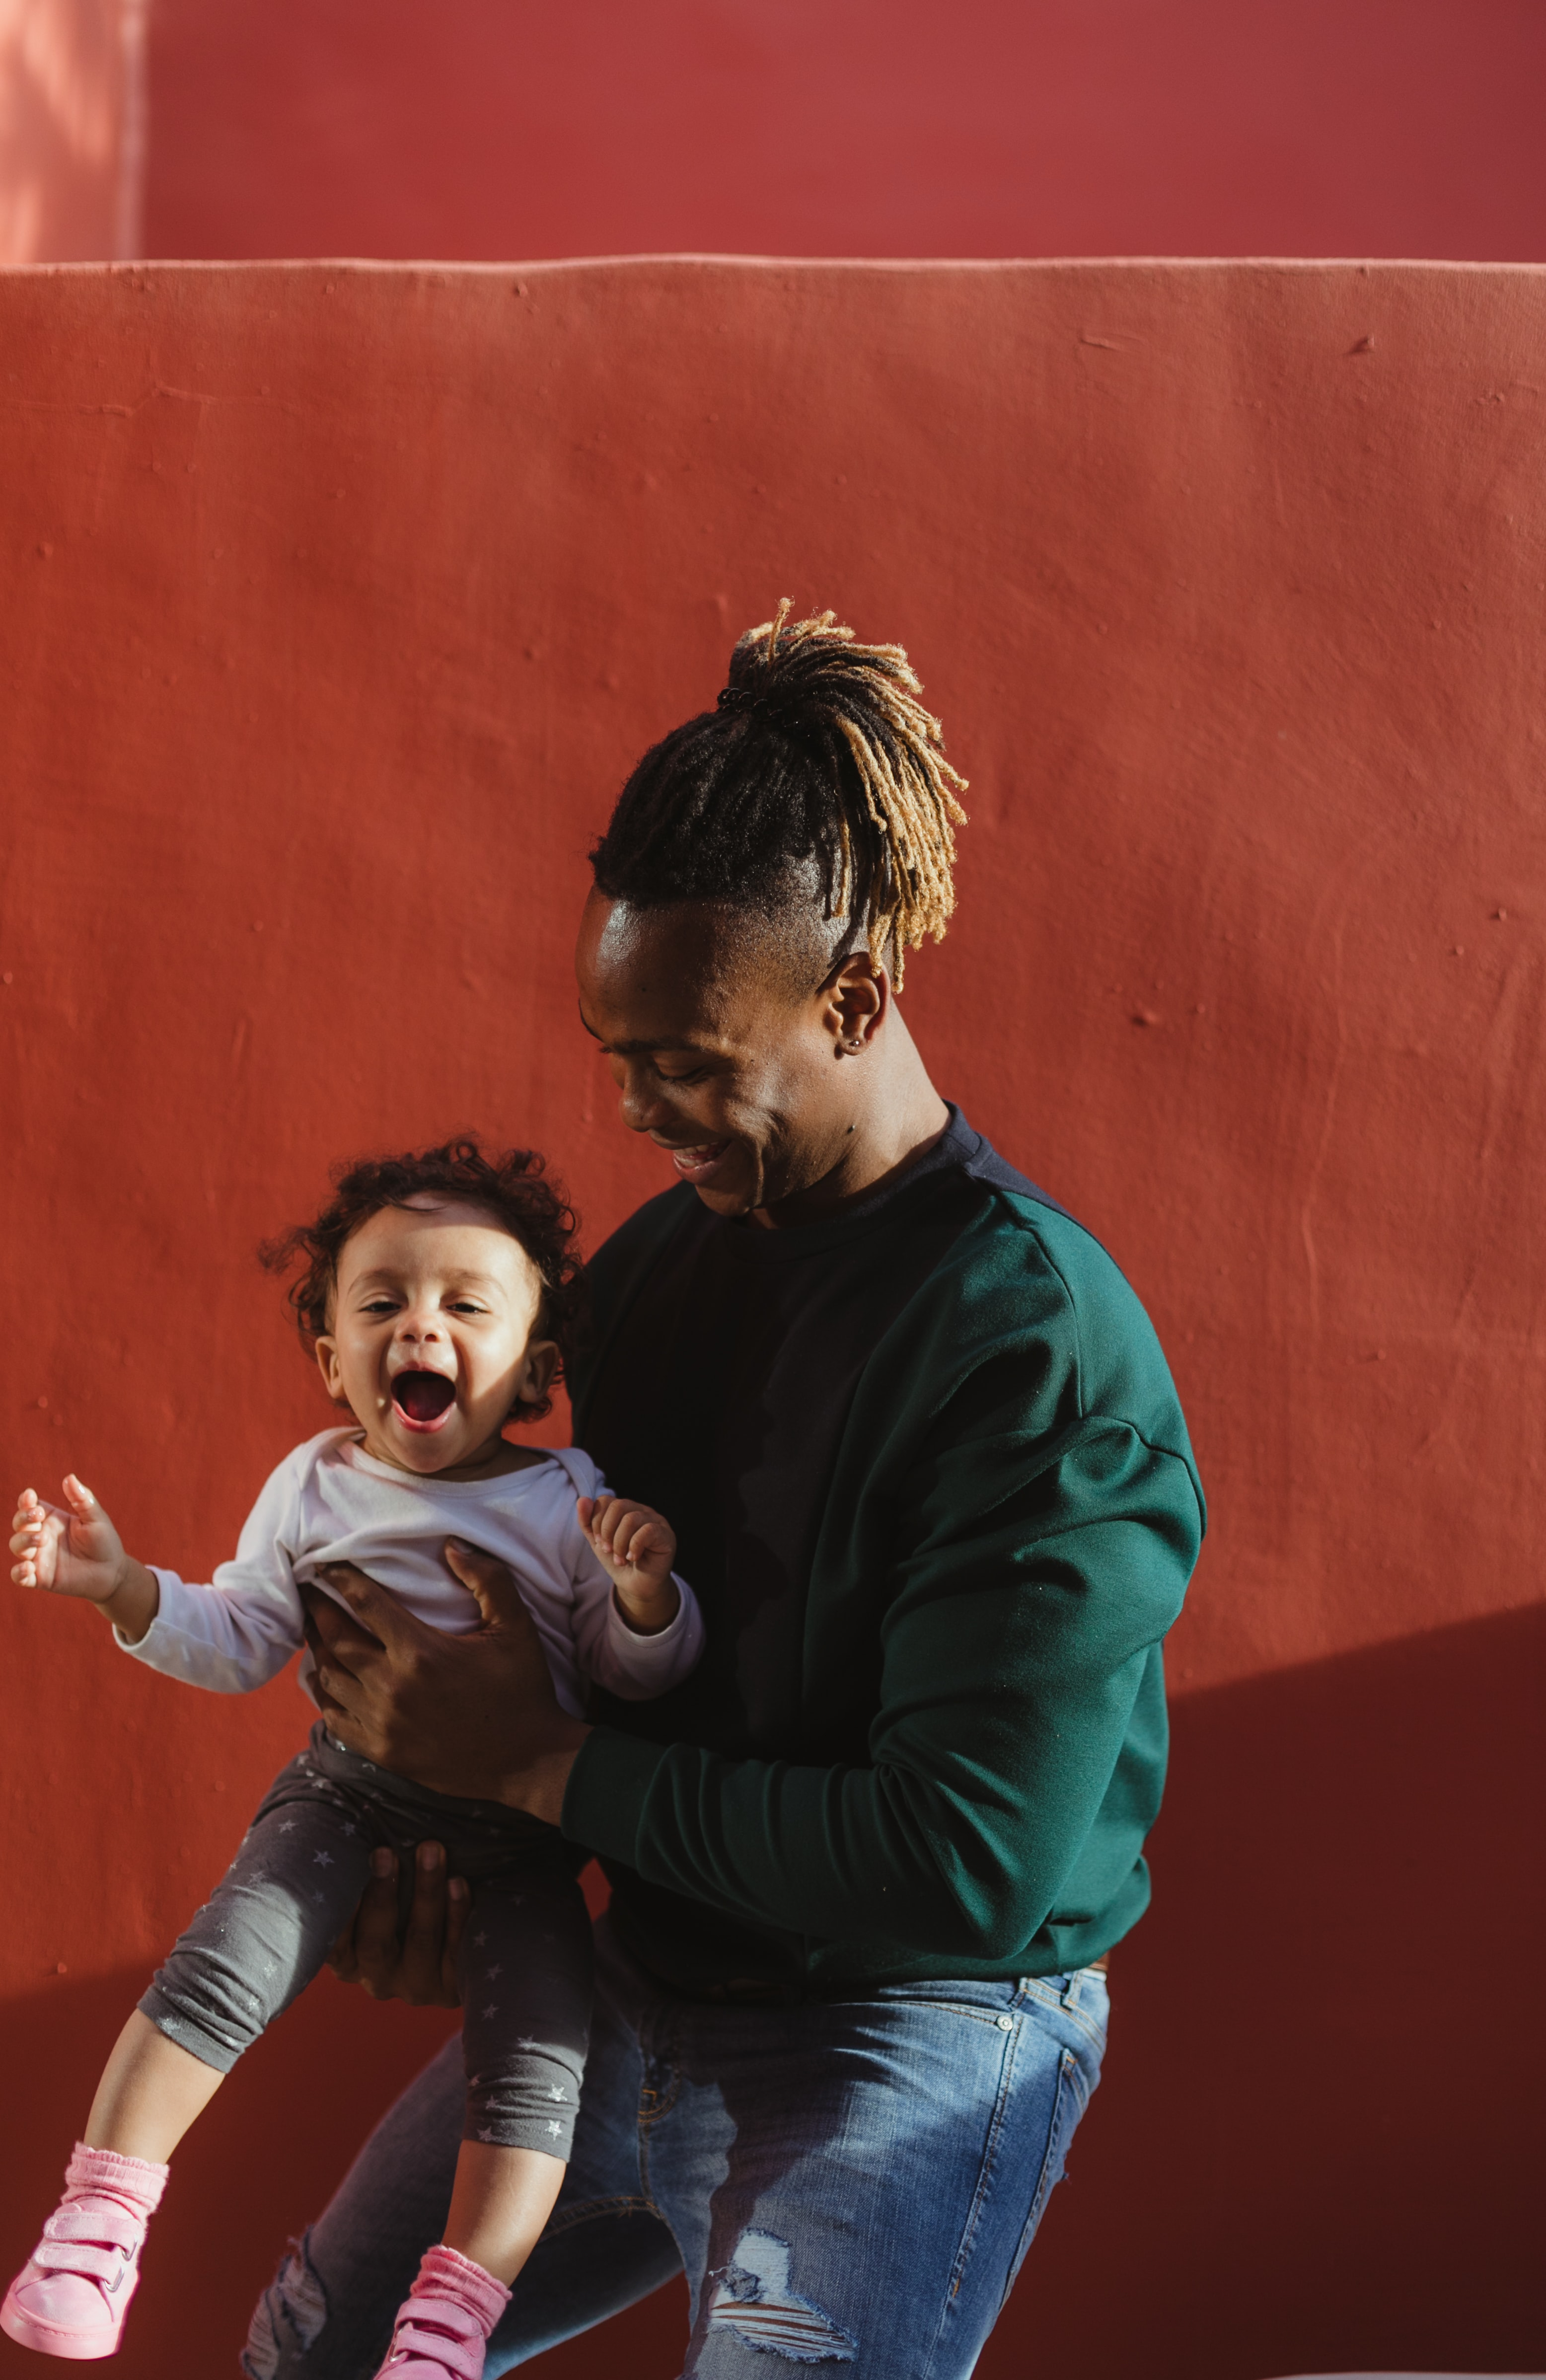face: (568, 749, 919, 1231), (290, 1154, 563, 1478)
